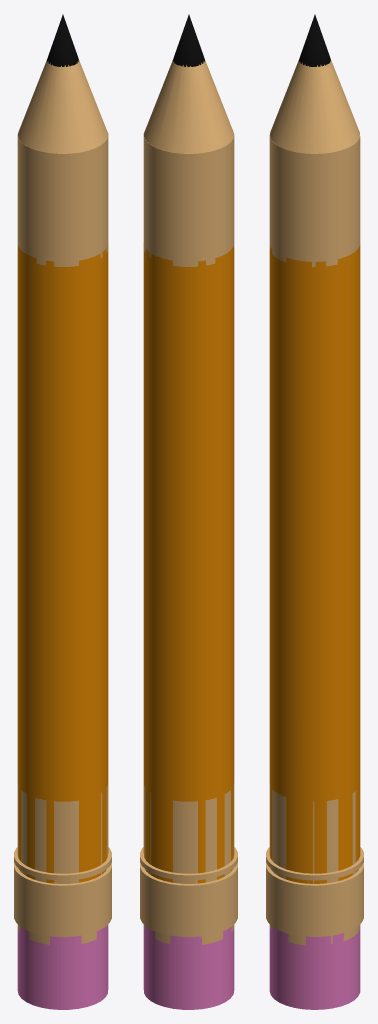
The picture shows the model from 3 angles, left to right: view 1: azimuth 30°, elevation 25°; view 2: azimuth 150°, elevation 25°; view 3: azimuth 330°, elevation 25°; orthographic projection.
Visible parts, largest first — view 1: painted_shaft, exposed_wood, sleeve_body, pink_eraser, graphite; view 2: painted_shaft, exposed_wood, sleeve_body, pink_eraser, graphite; view 3: painted_shaft, exposed_wood, sleeve_body, pink_eraser, graphite.
Boxes of the visible parts, x1=… form: painted_shaft: x1=17, y1=242, x2=108, y2=883; exposed_wood: x1=17, y1=59, x2=108, y2=266; sleeve_body: x1=14, y1=783, x2=111, y2=944; pink_eraser: x1=17, y1=924, x2=108, y2=1009; graphite: x1=47, y1=14, x2=78, y2=66; painted_shaft: x1=143, y1=242, x2=234, y2=883; exposed_wood: x1=143, y1=59, x2=234, y2=266; sleeve_body: x1=140, y1=783, x2=237, y2=944; pink_eraser: x1=143, y1=924, x2=234, y2=1009; graphite: x1=173, y1=14, x2=204, y2=66; painted_shaft: x1=269, y1=245, x2=360, y2=883; exposed_wood: x1=269, y1=59, x2=360, y2=266; sleeve_body: x1=266, y1=784, x2=363, y2=945; pink_eraser: x1=269, y1=924, x2=360, y2=1009; graphite: x1=299, y1=14, x2=330, y2=66.
Bounding box in the file's own units: 0.0174 × 0.19 × 0.0173.
